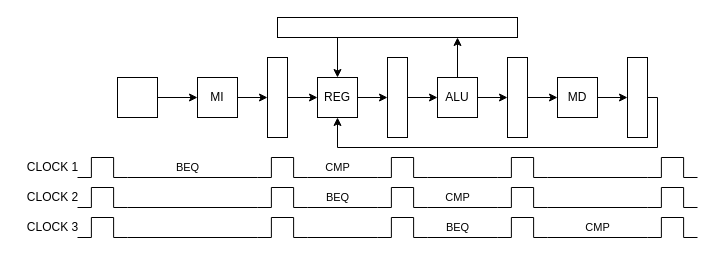
Image size: 715x260. Some labels were removed from this diagram. Each missing label, with the box of its shape:
CONTROLLO: (276, 16, 518, 38)
PC: (116, 76, 158, 118)
